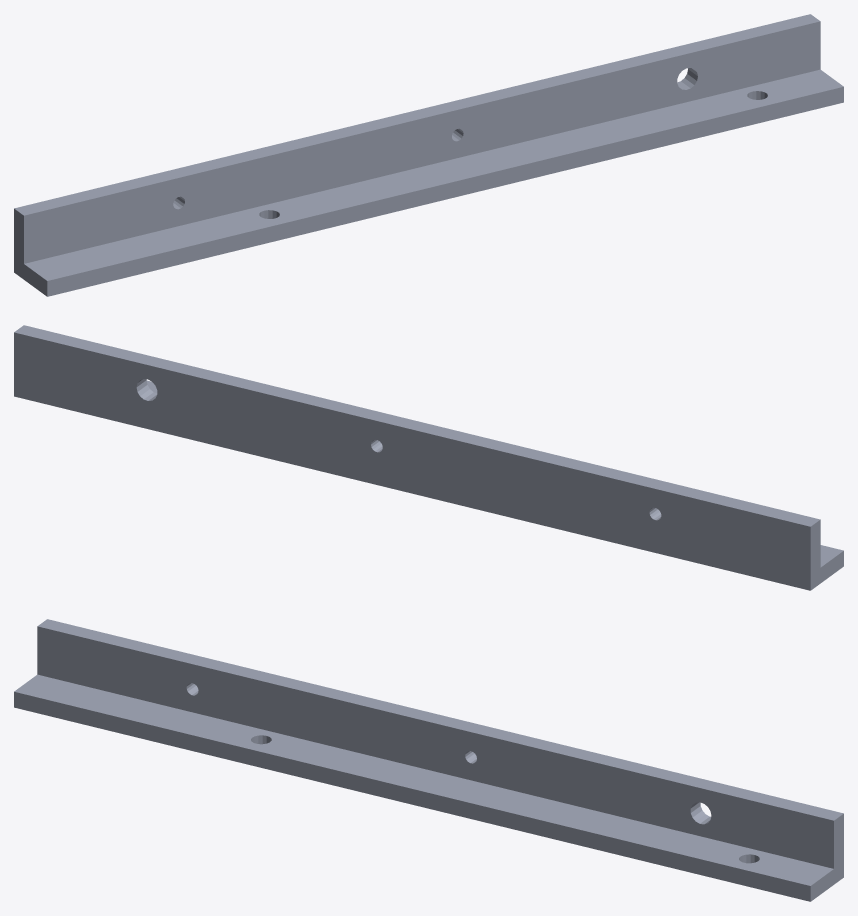
The model's file is LeftSideRail.glb.
The picture shows the model from 3 angles, top to bottom: view 1: azimuth 30°, elevation 25°; view 2: azimuth 150°, elevation 25°; view 3: azimuth 330°, elevation 25°; orthographic projection.
Parts seen in each view (by area): view 1: LeftSideRail; view 2: LeftSideRail; view 3: LeftSideRail.
Part boxes in pixels (<box>): LeftSideRail: <box>14,14,843,296</box>; LeftSideRail: <box>14,325,843,590</box>; LeftSideRail: <box>14,619,843,901</box>.
Bounding box in the file's own units: 7.66 × 0.5883 × 0.5552.
1 material, 1 textured.
